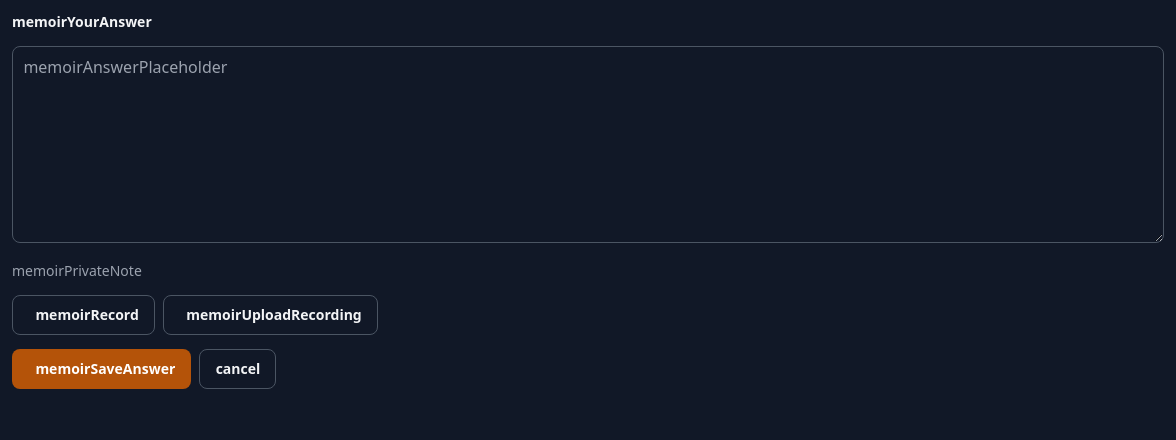
MemoirAnswerForm › explains when the microphone is refused and still allows uploading a recording
Click the button "memoirRecord" at coordinates (84, 315), box [12,295,155,335]
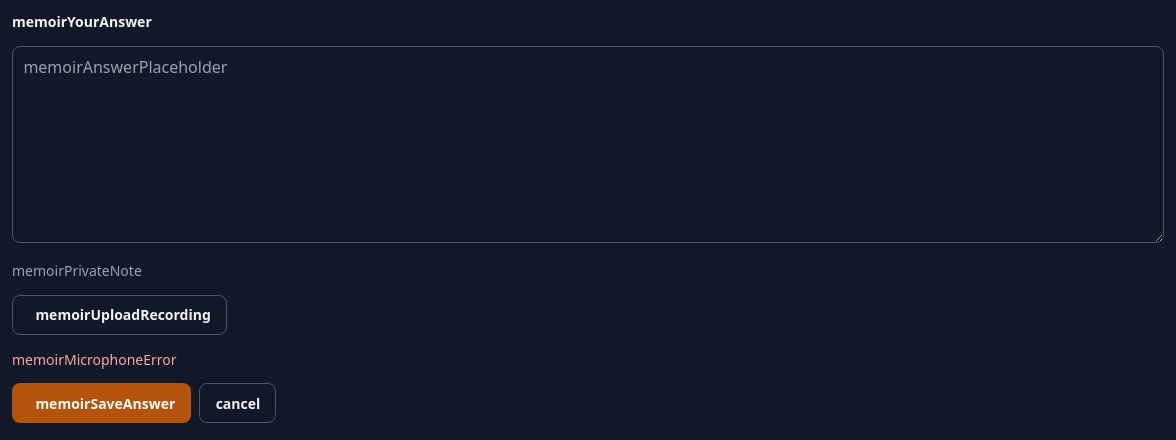
expect the button "memoirUploadRecording" is enabled: met, box [12,295,227,335]
expect the message reads "memoirMicrophoneError": met, box [12,350,176,368]
expect the button "memoirRecord" is gone: met
